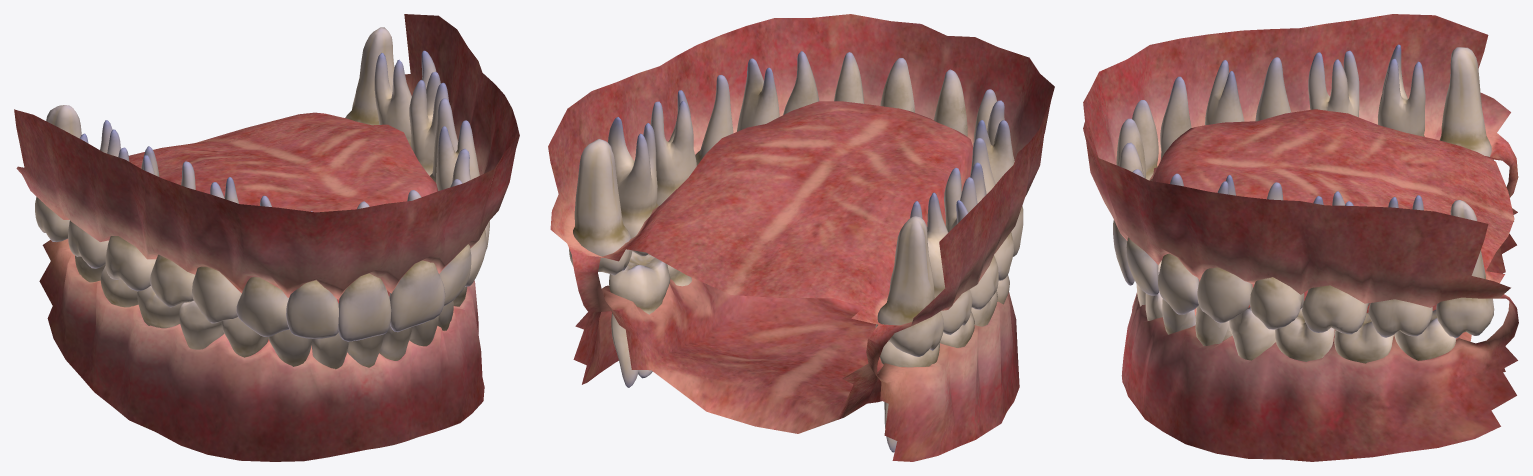
The model's file is teeth.glb.
3 views of the same model, side by side, from view 1: azimuth 30°, elevation 25°; view 2: azimuth 150°, elevation 25°; view 3: azimuth 270°, elevation 25° (orthographic).
Visible parts, largest first — view 1: gingiva, tooth_21, tooth_11, tooth_12, tooth_27, tooth_13, tooth_14, tooth_26, tooth_16, tooth_28, tooth_15, tooth_17 (+14 smaller); view 2: gingiva, tooth_18, tooth_28, tooth_27, tooth_38, tooth_26, tooth_17, tooth_16, tooth_24, tooth_14, tooth_11, tooth_25 (+6 smaller); view 3: gingiva, tooth_18, tooth_17, tooth_26, tooth_24, tooth_16, tooth_28, tooth_25, tooth_27, tooth_23, tooth_36, tooth_37 (+11 smaller).
Part boxes in pixels (bbox=[...]): gingiva: bbox=[14, 14, 519, 461]; tooth_21: bbox=[389, 190, 445, 332]; tooth_11: bbox=[338, 201, 391, 341]; tooth_12: bbox=[286, 211, 338, 338]; tooth_27: bbox=[374, 50, 436, 145]; tooth_13: bbox=[236, 195, 288, 336]; tooth_14: bbox=[192, 177, 241, 323]; tooth_26: bbox=[409, 71, 448, 175]; tooth_16: bbox=[105, 146, 159, 291]; tooth_28: bbox=[345, 27, 394, 125]; tooth_15: bbox=[150, 161, 195, 307]; tooth_17: bbox=[68, 120, 120, 268]; gingiva: bbox=[548, 14, 1054, 461]; tooth_18: bbox=[875, 216, 943, 356]; tooth_28: bbox=[569, 139, 632, 275]; tooth_27: bbox=[608, 117, 658, 256]; tooth_38: bbox=[609, 251, 670, 387]; tooth_26: bbox=[650, 90, 696, 205]; tooth_17: bbox=[910, 192, 972, 334]; tooth_16: bbox=[944, 162, 998, 309]; tooth_24: bbox=[737, 58, 779, 131]; tooth_14: bbox=[974, 120, 1023, 256]; tooth_11: bbox=[934, 69, 967, 136]; tooth_25: bbox=[695, 75, 733, 165]; gingiva: bbox=[1083, 14, 1518, 461]; tooth_18: bbox=[1439, 47, 1493, 160]; tooth_17: bbox=[1378, 44, 1425, 136]; tooth_26: bbox=[1302, 191, 1369, 334]; tooth_24: bbox=[1197, 175, 1252, 323]; tooth_16: bbox=[1308, 50, 1359, 117]; tooth_28: bbox=[1436, 200, 1494, 338]; tooth_25: bbox=[1250, 182, 1304, 329]; tooth_27: bbox=[1368, 195, 1432, 337]; tooth_23: bbox=[1158, 173, 1199, 314]; tooth_36: bbox=[1275, 308, 1334, 361]; tooth_37: bbox=[1334, 313, 1393, 363].
Bounding box in the file's own units: 7.34 × 4.81 × 6.89.
2 materials, 2 textured.
